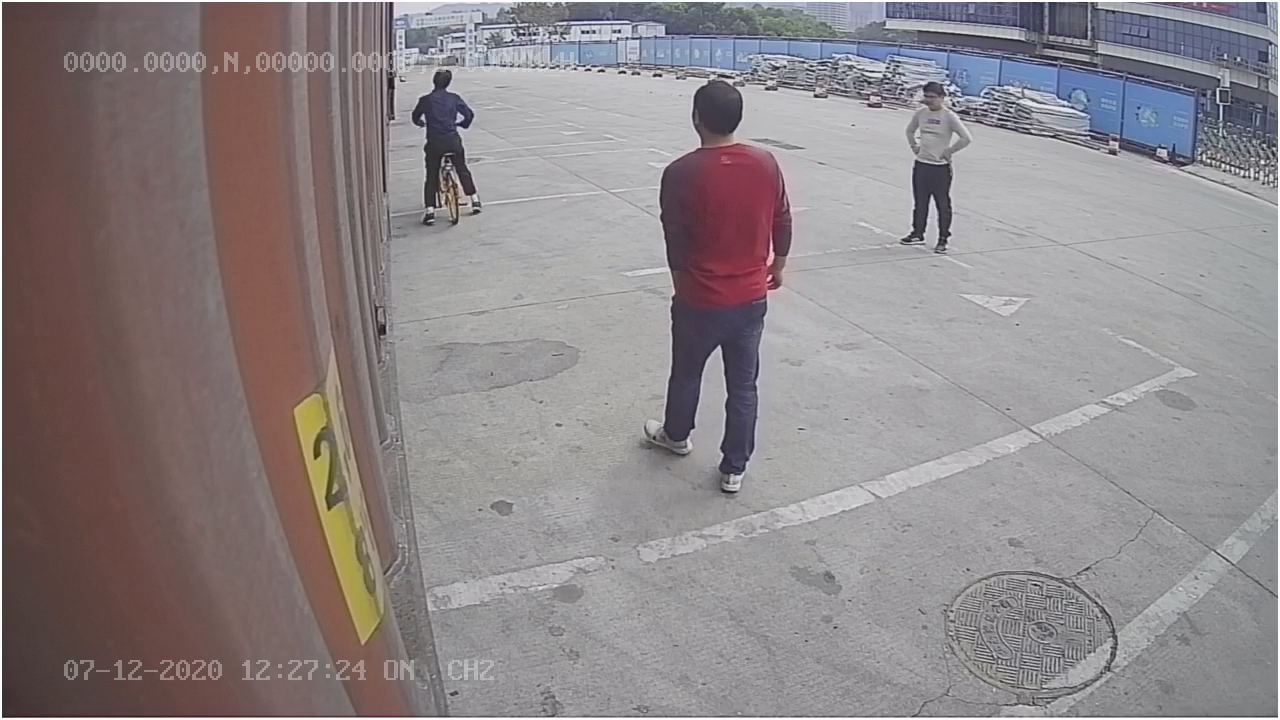person: (627, 71, 801, 501)
